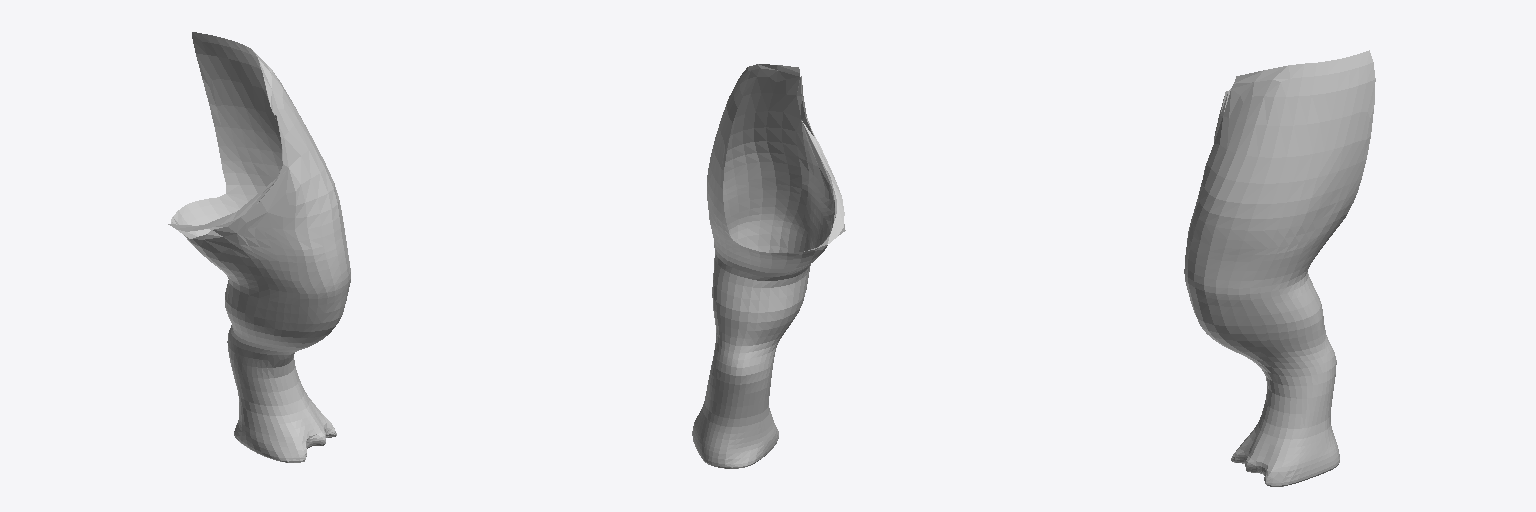
Rendered from lleg.obj.
3 views of the same model, side by side, from view 1: azimuth 30°, elevation 25°; view 2: azimuth 150°, elevation 25°; view 3: azimuth 270°, elevation 25° (orthographic).
Visible parts, largest first — view 1: ???; view 2: ???; view 3: ???.
Boxes of the visible parts, box(x1,y1,x2,y2) form: ???: box(168, 32, 350, 462); ???: box(692, 64, 845, 468); ???: box(1184, 50, 1375, 486).
Size of the model in its own units: 13.83 by 34.8 by 15.36.